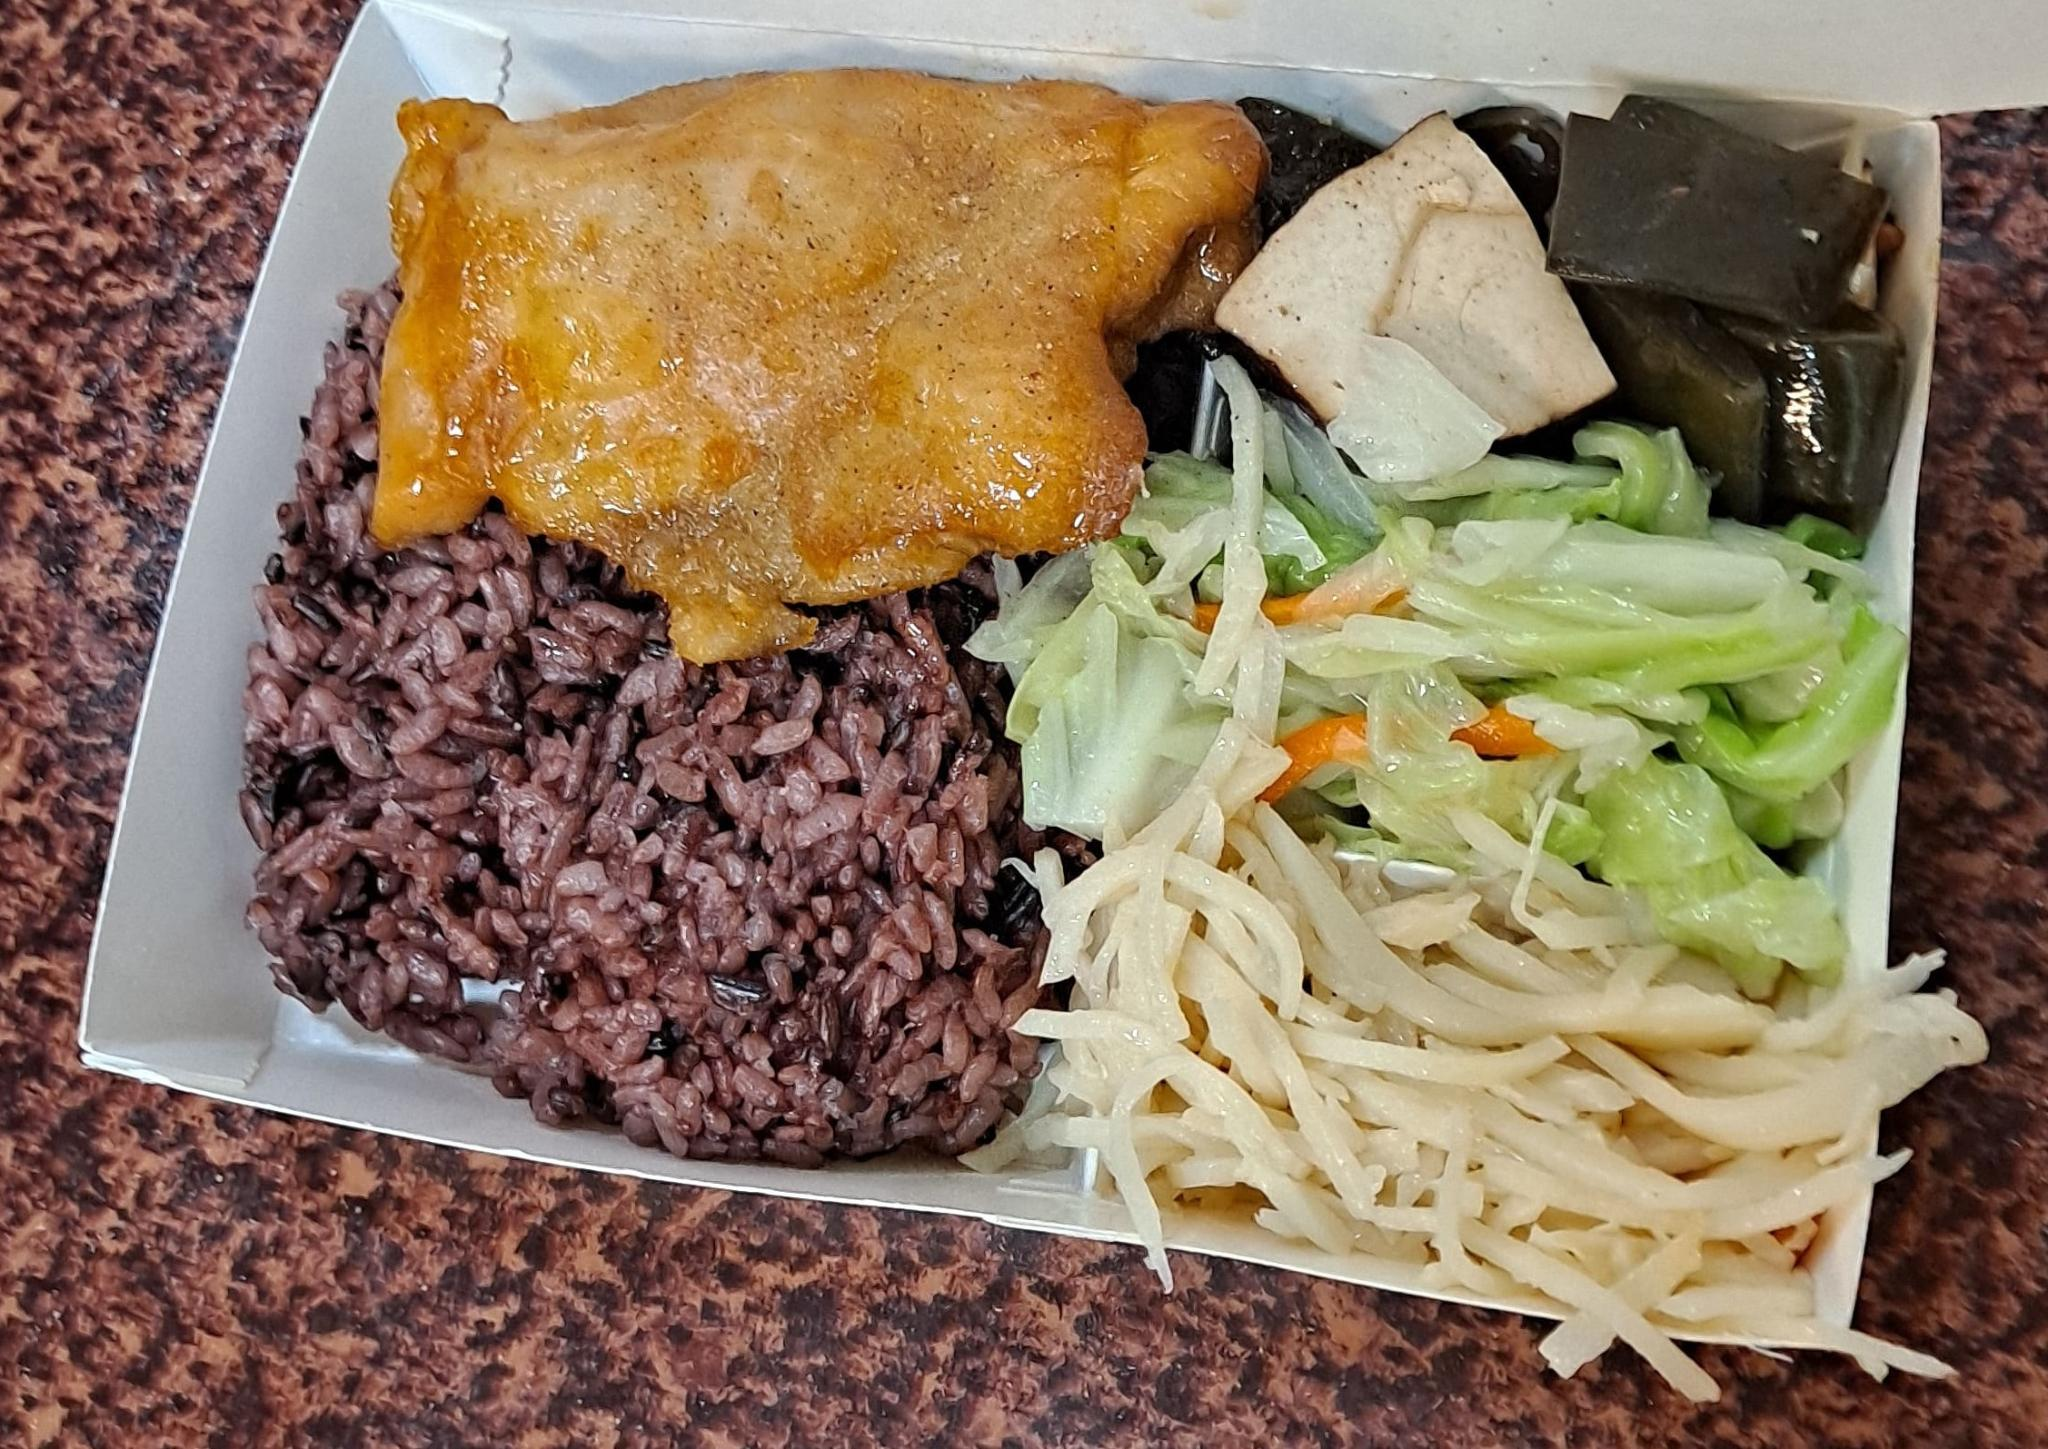big grilled chicken leg: (50, 2, 1957, 1385)
braised fish: (241, 268, 1052, 1153)
braised fish fillet: (1016, 786, 1990, 1391), (1010, 456, 1897, 964), (1239, 89, 1932, 524)
braised pork: (347, 55, 1270, 657)
